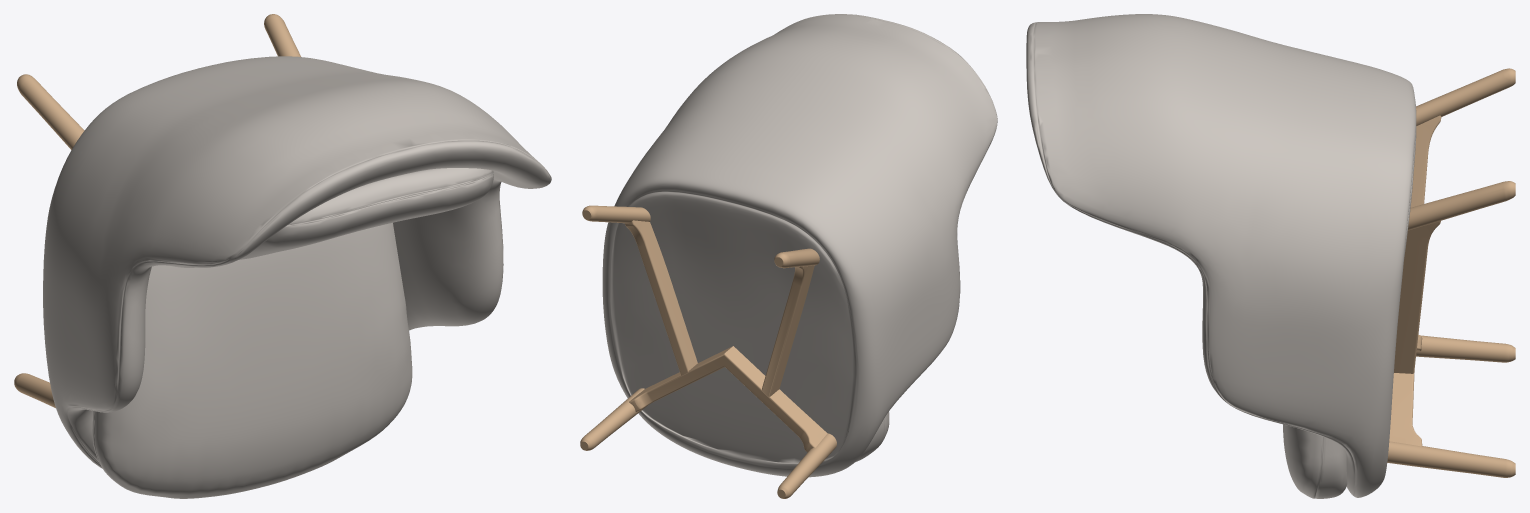
The model's file is furniture.obj.
The picture shows the model from 3 angles, left to right: view 1: azimuth 30°, elevation 25°; view 2: azimuth 150°, elevation 25°; view 3: azimuth 270°, elevation 25°; orthographic projection. The views are drawn at different scales.
Parts seen in each view (by area): view 1: default; view 2: default; view 3: default.
Part boxes in pixels (x1=…): default: x1=14, y1=14, x2=551, y2=498; default: x1=580, y1=14, x2=997, y2=498; default: x1=1026, y1=14, x2=1515, y2=498.
Size of the model in its own units: 80.19 by 89.88 by 93.54.
